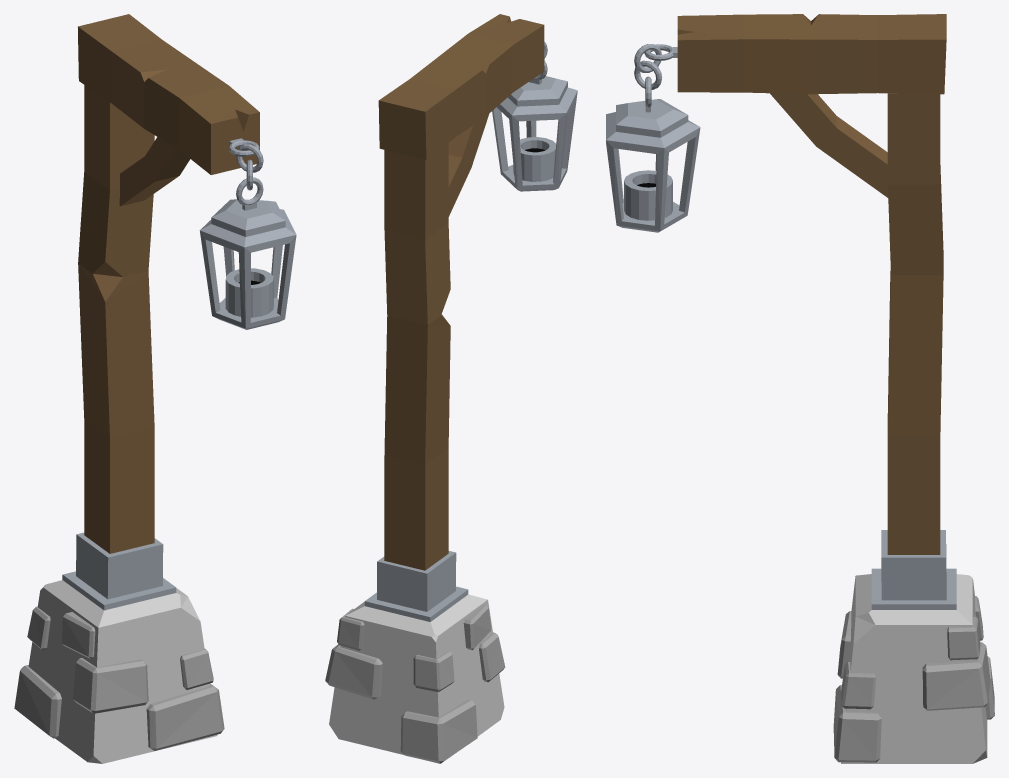
The model's file is Lantern 2.fbx.
The picture shows the model from 3 angles, left to right: view 1: azimuth 30°, elevation 25°; view 2: azimuth 150°, elevation 25°; view 3: azimuth 270°, elevation 25°; orthographic projection. The views are drawn at different scales.
Parts seen in each view (by area): view 1: Lantern 2; view 2: Lantern 2; view 3: Lantern 2.
Boxes of the visible parts, box(x1,y1,x2,y2) form: Lantern 2: box(14, 14, 296, 763); Lantern 2: box(325, 14, 577, 763); Lantern 2: box(606, 14, 994, 763).
Bounding box in the file's own units: 1.08 × 5.25 × 2.62.
